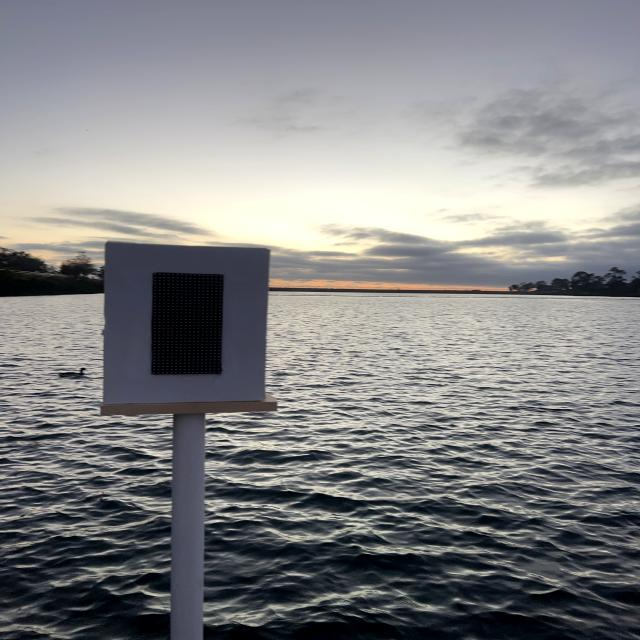led: (120, 248, 256, 402)
